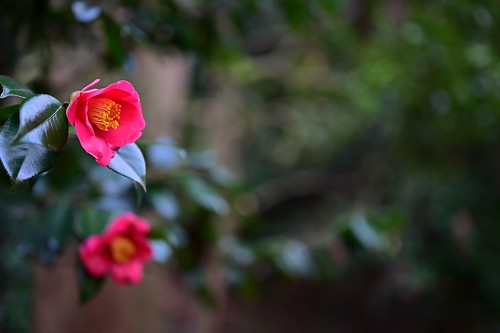flowers: (1, 44, 201, 333)
